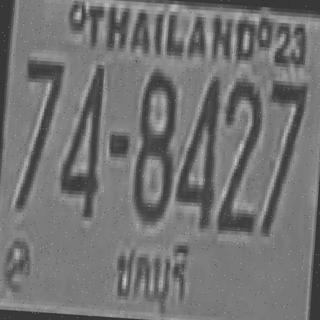N02: (216, 75, 263, 230)
N04: (57, 57, 105, 216), (174, 70, 222, 226)
N07: (14, 54, 63, 209), (259, 76, 306, 235)
N08: (130, 66, 178, 221)
P13: (109, 224, 197, 320)
